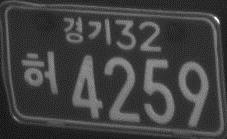2: (104, 55, 141, 125), (137, 21, 163, 52)
3: (114, 18, 136, 50)
4: (69, 53, 104, 120)
5: (141, 56, 175, 124)
9: (177, 59, 210, 128)
경기_O: (61, 16, 112, 46)
허: (21, 46, 58, 96)
